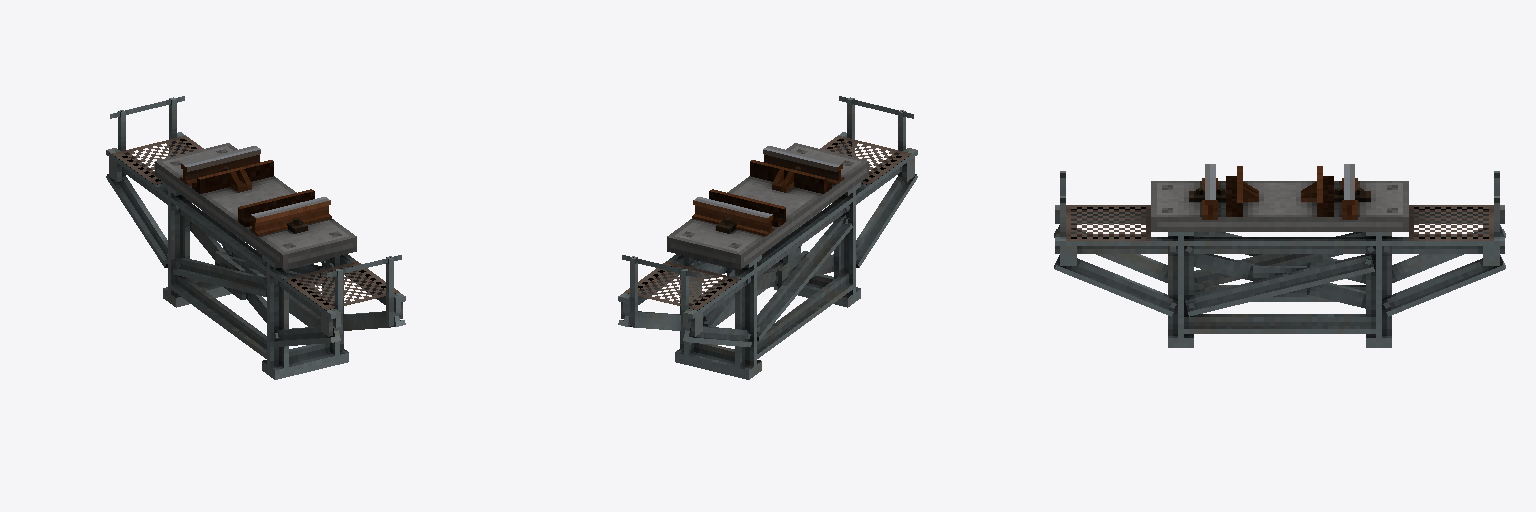
3 renders of one model, left to right at view 1: azimuth 30°, elevation 25°; view 2: azimuth 150°, elevation 25°; view 3: azimuth 270°, elevation 25°, orthographic.
Parts seen in each view (by area): view 1: RAIL_BASE_mvp_rail_bridge, RAIL_RIGHT_mvp_rail_bridge, RAIL_LEFT_mvp_rail_bridge; view 2: RAIL_BASE_mvp_rail_bridge, RAIL_LEFT_mvp_rail_bridge, RAIL_RIGHT_mvp_rail_bridge; view 3: RAIL_BASE_mvp_rail_bridge, RAIL_RIGHT_mvp_rail_bridge, RAIL_LEFT_mvp_rail_bridge.
Part boxes in pixels (x1,y1,x2,y2): RAIL_BASE_mvp_rail_bridge: (106, 96, 405, 379); RAIL_RIGHT_mvp_rail_bridge: (192, 160, 273, 193); RAIL_LEFT_mvp_rail_bridge: (238, 189, 314, 226); RAIL_BASE_mvp_rail_bridge: (618, 96, 917, 379); RAIL_LEFT_mvp_rail_bridge: (750, 160, 831, 193); RAIL_RIGHT_mvp_rail_bridge: (709, 189, 785, 226); RAIL_BASE_mvp_rail_bridge: (1054, 164, 1505, 347); RAIL_RIGHT_mvp_rail_bridge: (1317, 166, 1333, 216); RAIL_LEFT_mvp_rail_bridge: (1226, 166, 1242, 216).
Bounding box in the file's own units: 1 × 1.91 × 5.27.
Materials: 2 (2 with a texture image).